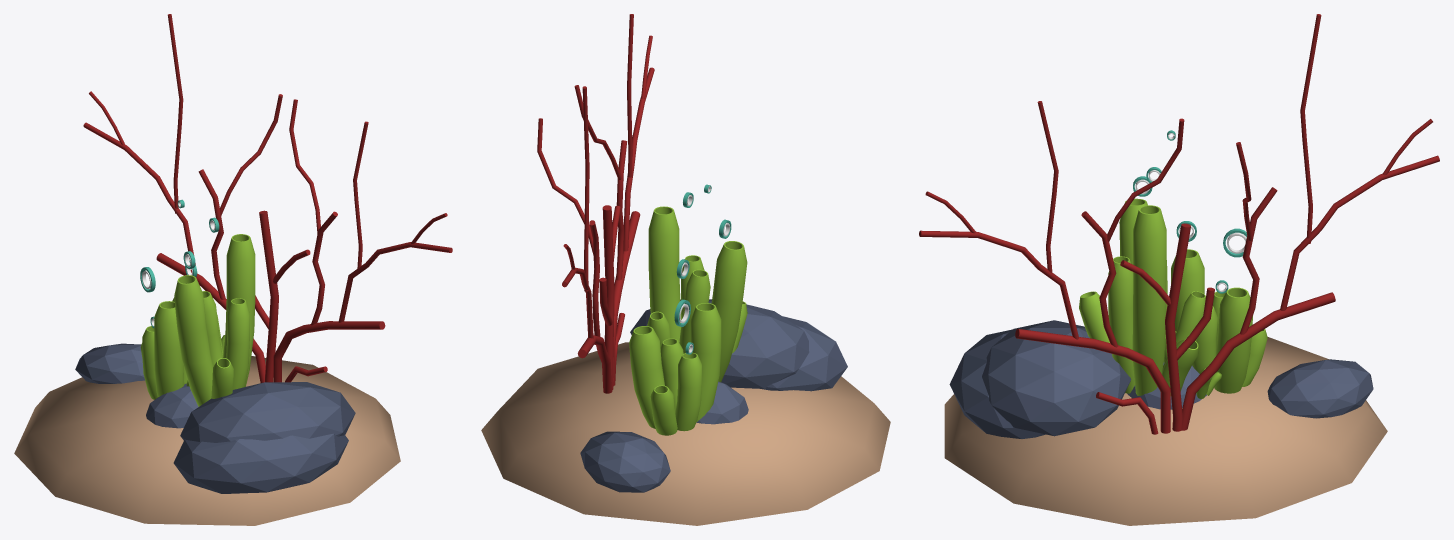
The model's file is Coral_438.gltf.
The picture shows the model from 3 angles, left to right: view 1: azimuth 30°, elevation 25°; view 2: azimuth 150°, elevation 25°; view 3: azimuth 270°, elevation 25°; orthographic projection. The views are drawn at different scales.
Parts seen in each view (by area): view 1: node-0; view 2: node-0; view 3: node-0.
Boxes of the visible parts, left/top/right/bottom form: node-0: left=14, top=14, right=452, bottom=525; node-0: left=481, top=14, right=890, bottom=525; node-0: left=919, top=14, right=1439, bottom=525.
Size of the model in its own units: 89.58 by 95.94 by 104.
